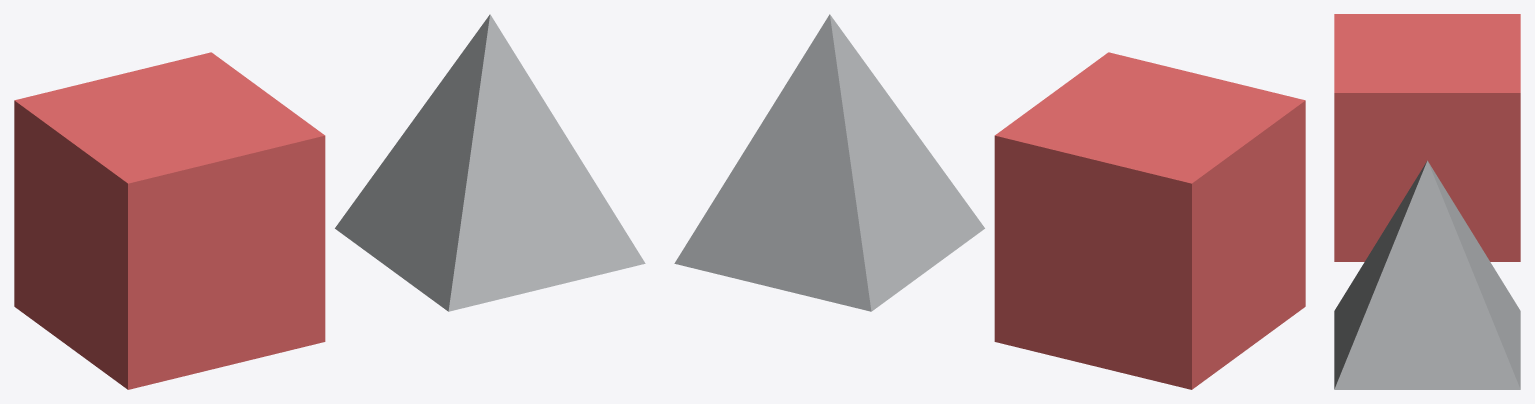
3 views of the same model, side by side, from view 1: azimuth 30°, elevation 25°; view 2: azimuth 150°, elevation 25°; view 3: azimuth 270°, elevation 25° (orthographic). The views are drawn at different scales.
Visible parts, largest first — view 1: shape0, shape1; view 2: shape0, shape1; view 3: shape0, shape1.
Part boxes in pixels (box(x1,y1,x2,y2)): shape0: box(14, 52, 325, 389); shape1: box(335, 14, 645, 311); shape0: box(994, 52, 1305, 389); shape1: box(674, 14, 984, 311); shape0: box(1334, 14, 1520, 261); shape1: box(1334, 160, 1520, 389).
Bounding box in the file's own units: 1.05 × 0.45 × 0.4.
